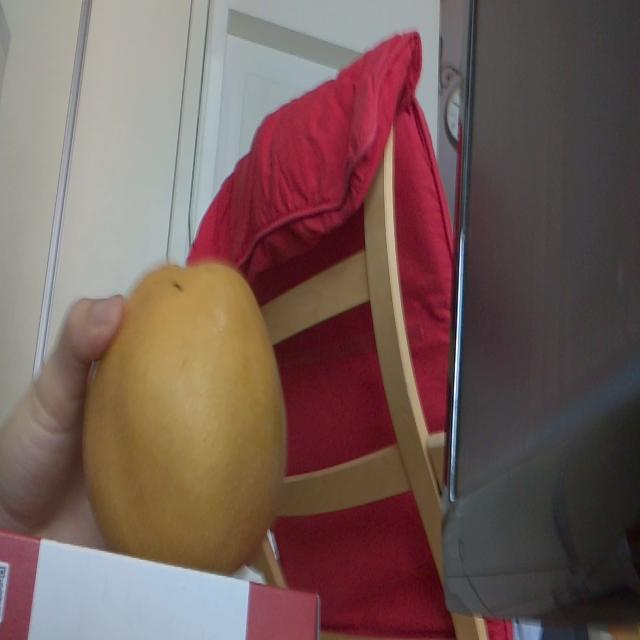pear: (83, 260, 285, 545)
